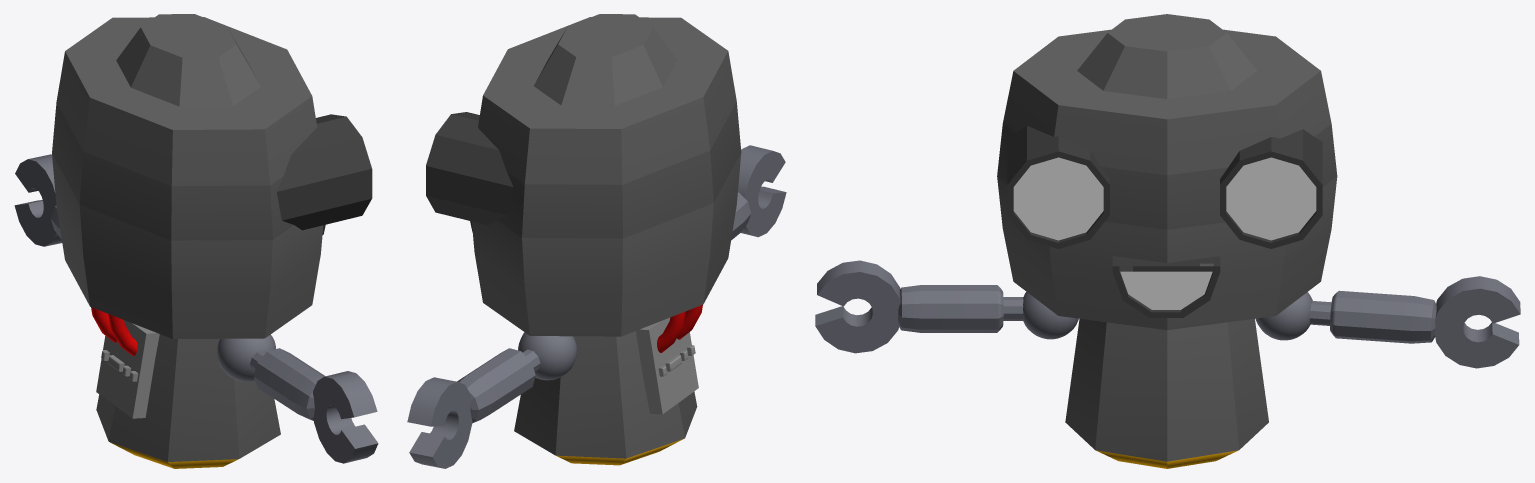
The model's file is robotfbx.fbx.
3 renders of one model, left to right at view 1: azimuth 30°, elevation 25°; view 2: azimuth 150°, elevation 25°; view 3: azimuth 270°, elevation 25°, orthographic.
Parts seen in each view (by area): view 1: group6_pasted__pCylinder8; view 2: group6_pasted__pCylinder8; view 3: group6_pasted__pCylinder8.
Part boxes in pixels (x1,y1,x2,y2): group6_pasted__pCylinder8: (14, 14, 378, 468); group6_pasted__pCylinder8: (407, 14, 786, 468); group6_pasted__pCylinder8: (815, 14, 1520, 468).
Size of the model in its own units: 3.18 by 5.55 by 8.66.
